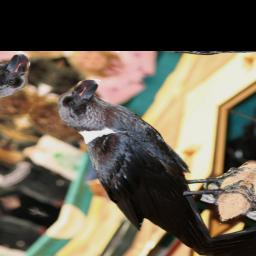Crow: (2, 70, 256, 256)
